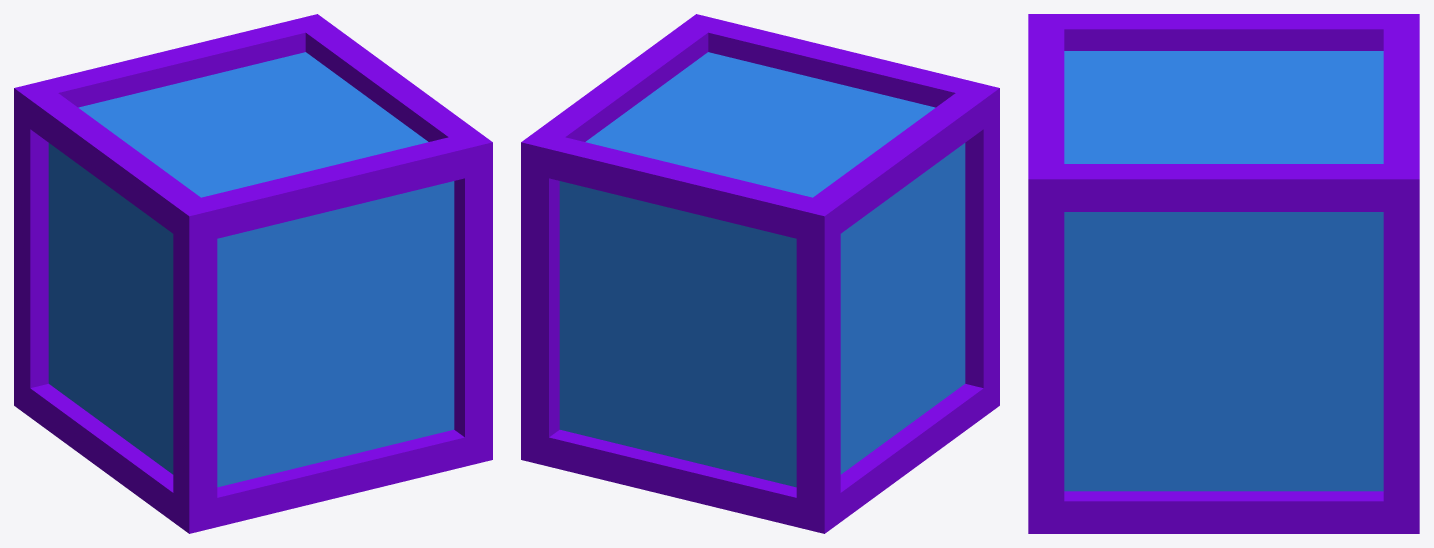
File: Box Type 1.fbx
The picture shows the model from 3 angles, left to right: view 1: azimuth 30°, elevation 25°; view 2: azimuth 150°, elevation 25°; view 3: azimuth 270°, elevation 25°; orthographic projection. The views are drawn at different scales.
Parts seen in each view (by area): view 1: Box Type 1; view 2: Box Type 1; view 3: Box Type 1.
Boxes of the visible parts, x1=… form: Box Type 1: x1=14, y1=14, x2=492, y2=533; Box Type 1: x1=521, y1=14, x2=999, y2=533; Box Type 1: x1=1028, y1=14, x2=1419, y2=533.
Size of the model in its own units: 2 by 2 by 2.
